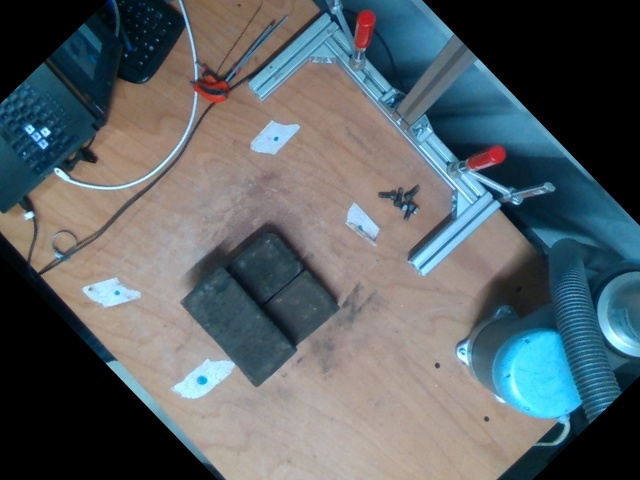brick: (183, 266, 295, 385)
